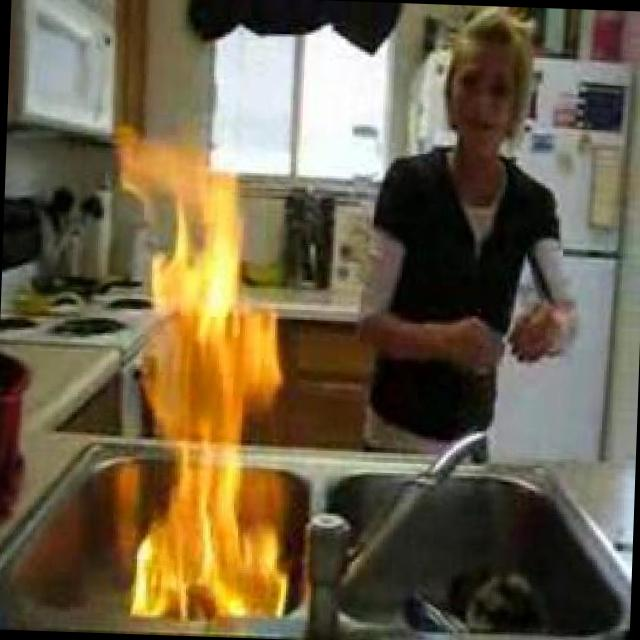Fire: (127, 251, 296, 628), (109, 126, 254, 250)
